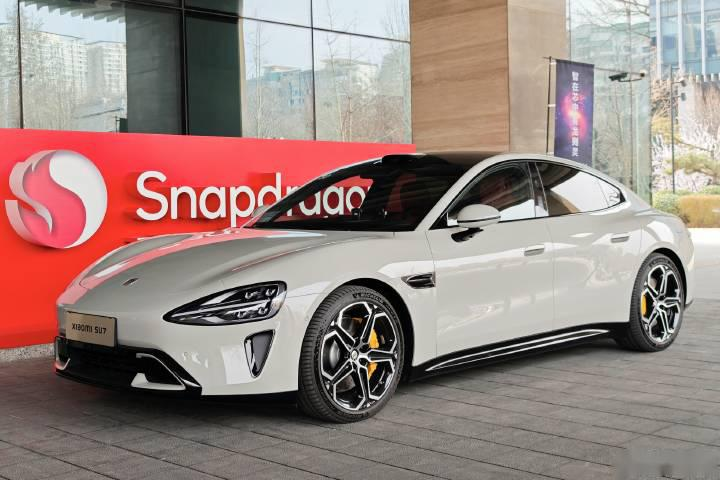su7: (45, 147, 698, 425)
